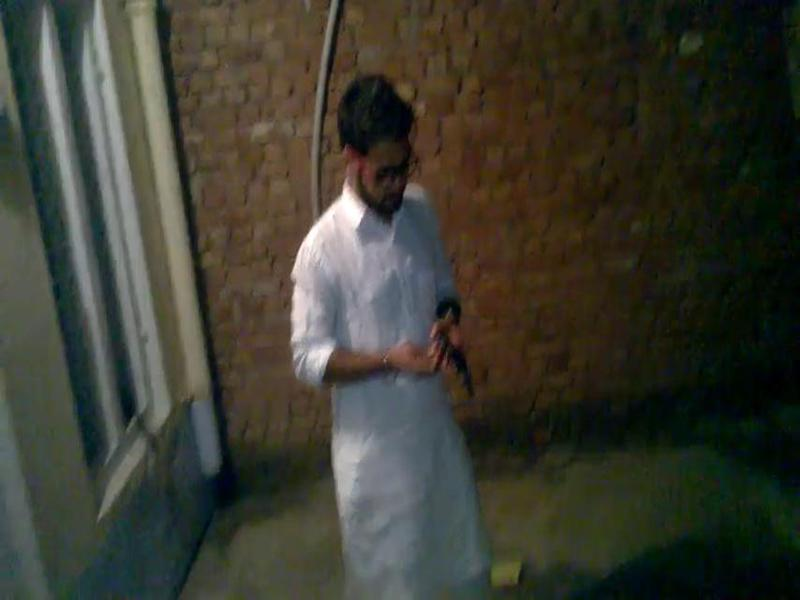Revolver: (406, 290, 485, 423)
